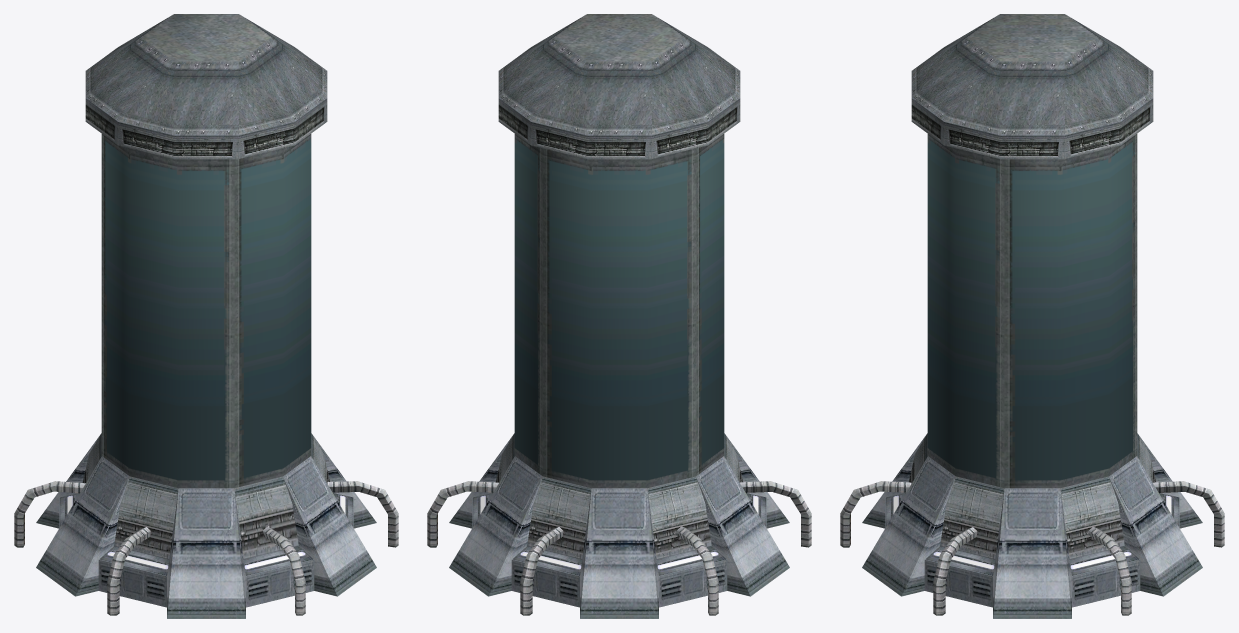
Rendered from eqp_bacta_tank_lg_l1.fbx.
3 renders of one model, left to right at view 1: azimuth 30°, elevation 25°; view 2: azimuth 150°, elevation 25°; view 3: azimuth 270°, elevation 25°, orthographic.
Visible parts, largest first — view 1: mesh_node; view 2: mesh_node; view 3: mesh_node.
Boxes of the visible parts, x1,y1,x2,y2 form: mesh_node: (14, 14, 398, 618); mesh_node: (427, 14, 811, 618); mesh_node: (840, 14, 1224, 618).
Size of the model in its own units: 3.11 by 5 by 3.43.
